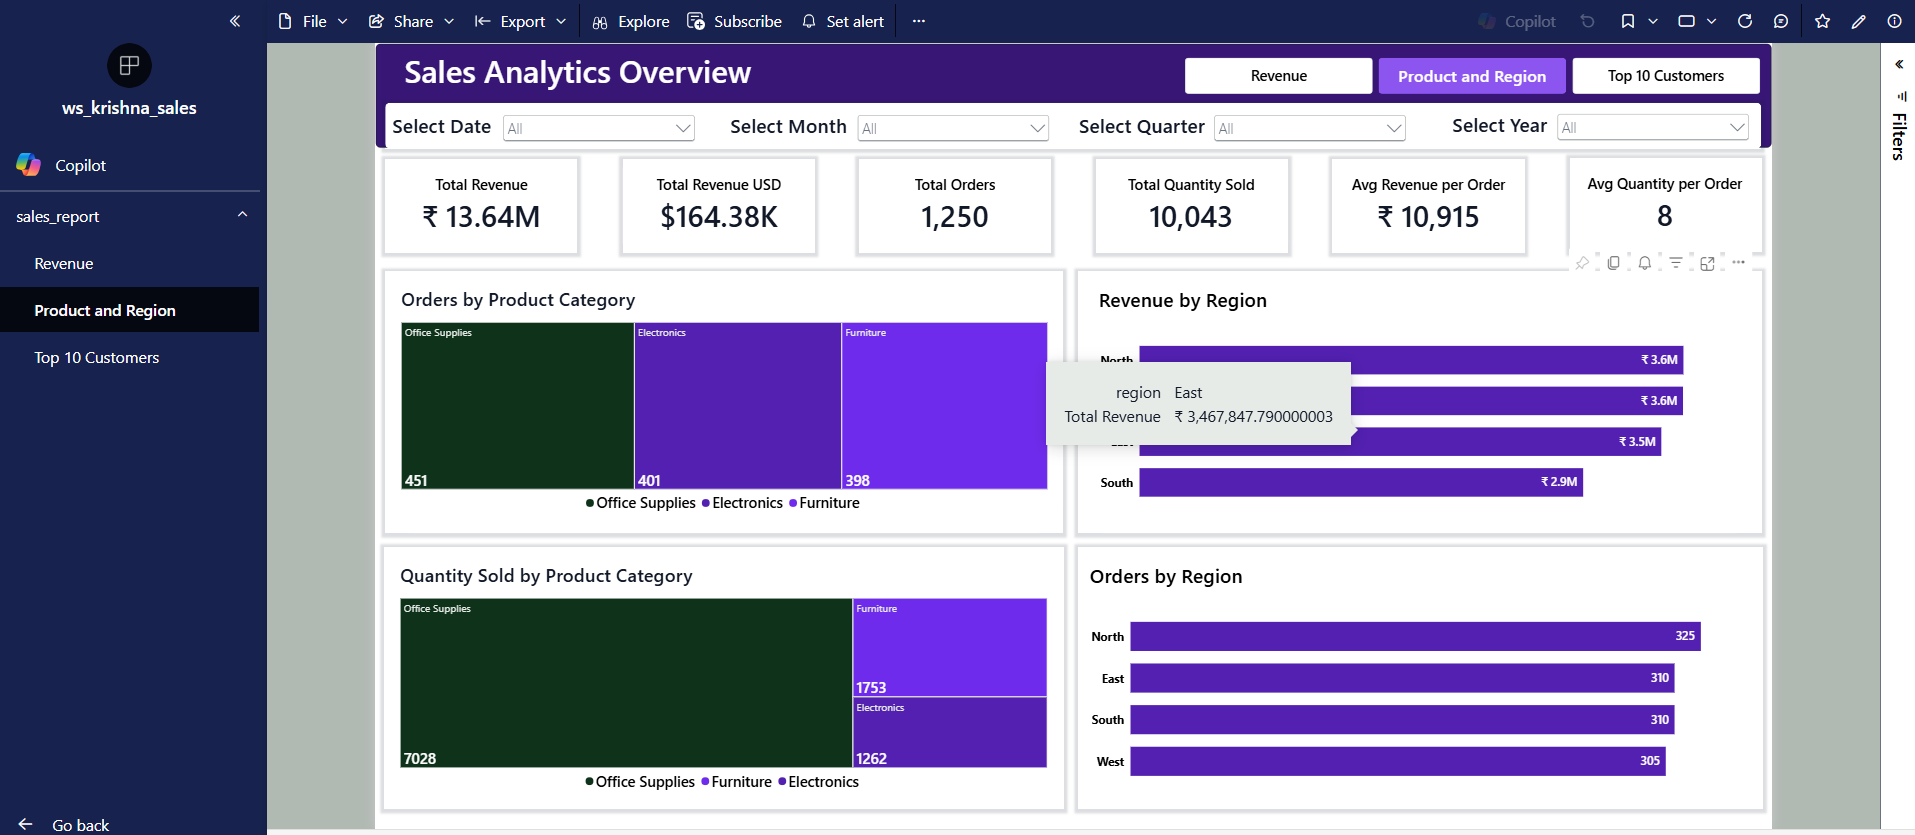

Layout of this report page (visuals, bound fields, positions):
{"tool":"powerbi","page":{"name":"Product and Region","canvas":[1920,1080],"ordinal":1},"visuals":[{"type":"shape","box":[0,0,1920.1,144.8],"z":0},{"type":"textbox","box":[1457.3,92.6,175.5,43.4],"z":0,"group":"g3"},{"type":"textbox","box":[480.5,94.1,175.5,43.4],"z":0,"group":"g2"},{"type":"textbox","box":[966.4,94.1,175.5,43.4],"z":0,"group":"g4"},{"type":"textbox","box":[14.5,95.9,155.6,38],"z":0,"group":"g1"},{"type":"textbox","box":[0,9,557.4,72.4],"z":1000},{"type":"slicer","fields":{"Values":["dim_date.year"]},"box":[1617.8,90.5,275.1,47.1],"z":1000,"group":"g3"},{"type":"slicer","fields":{"Values":["dim_date.full_date"]},"box":[170.1,92.3,275.1,47.1],"z":1000,"group":"g1"},{"type":"slicer","fields":{"Values":["dim_date.month_name"]},"box":[656,92.3,275.1,47.1],"z":1000,"group":"g2"},{"type":"slicer","fields":{"Values":["dim_date.quarter"]},"box":[1146.9,92.6,275.1,47.1],"z":1000,"group":"g4"},{"type":"shape","box":[14.5,159.3,264.2,128.5],"z":2000},{"type":"shape","box":[339.9,159.3,264.2,128.5],"z":3000},{"type":"shape","box":[665.2,159.3,264.2,128.5],"z":4000},{"type":"shape","box":[1316,159.3,264.2,128.5],"z":5000},{"type":"shape","box":[1641.4,157.4,264.2,128.5],"z":6000},{"type":"shape","box":[990.6,159.3,264.2,128.5],"z":7000},{"type":"shape","box":[14.5,81.4,1891.1,63.3],"z":8000},{"type":"group","id":"g1","title":"Group 1","box":[14.5,92.3,430.7,47.1],"z":9000},{"type":"group","id":"g2","title":"Group 2","box":[480.5,92.3,450.6,47.1],"z":10000},{"type":"group","id":"g3","title":"Group 4","box":[1457.3,90.5,435.6,47.1],"z":11000},{"type":"group","id":"g4","title":"Group 3","box":[966.4,92.6,455.6,47.1],"z":12000},{"type":"cardVisual","fields":{"Data":["fact_sales.Avg Quantity per Order"]},"box":[1648.6,161.1,249.7,121],"z":13000},{"type":"cardVisual","fields":{"Data":["fact_sales.Avg Revenue per Order"]},"box":[1322.9,162.9,249.7,121],"z":14000},{"type":"cardVisual","fields":{"Data":["fact_sales.Total Quantity Sold"]},"box":[997.1,162.9,249.7,121],"z":15000},{"type":"cardVisual","fields":{"Data":["fact_sales.Total Orders"]},"box":[673.2,162.9,249.7,121],"z":16000},{"type":"cardVisual","fields":{"Data":["fact_sales.Total Revenue USD"]},"box":[347.5,162.9,249.7,121],"z":17000},{"type":"cardVisual","fields":{"Data":["fact_sales.Total Revenue"]},"box":[21.7,162.9,249.7,121],"z":18000},{"type":"shape","box":[12.7,693.1,933.8,360.1],"z":19000},{"type":"shape","box":[14.5,313.1,932,360.1],"z":20000},{"type":"shape","box":[966.4,313.1,939.2,360.1],"z":21000},{"type":"shape","box":[966.4,693.1,941,360.1],"z":22000},{"type":"clusteredBarChart","title":"Revenue by Region","fields":{"Category":["dim_region.region"],"Y":["fact_sales.Total Revenue"]},"box":[979,320.3,915,343.8],"z":23000},{"type":"clusteredBarChart","title":"Orders by Region","fields":{"Category":["dim_region.region"],"Y":["fact_sales.Total Orders"]},"box":[966.4,698.5,932,349.3],"z":24000},{"type":"treemap","title":"Orders by Product Category","fields":{"Group":["dim_product.product_category"],"Values":["fact_sales.Total Orders"]},"box":[19.9,320.3,920,345],"z":25000},{"type":"treemap","title":"Quantity Sold by Product Category","fields":{"Group":["dim_product.product_category"],"Values":["fact_sales.Total Quantity Sold"]},"box":[18.1,698.5,921.1,349.3],"z":26000},{"type":"pageNavigator","box":[1112.9,19.9,792.6,50.7],"z":26001}]}

Visuals, with their boxes on the page's 1920x1080 design canvas (x1, y1, x2, y2). These are canvas units, not pixel positions in the 1915x835 screenshot, which may show the page scaled, cropped or inside an application window:
shape: 0/0/1920/145
textbox: 1457/93/1633/136
textbox: 480/94/656/138
textbox: 966/94/1142/138
textbox: 14/96/170/134
textbox: 0/9/557/81
slicer - dim_date.year: 1618/90/1893/138
slicer - dim_date.full_date: 170/92/445/139
slicer - dim_date.month_name: 656/92/931/139
slicer - dim_date.quarter: 1147/93/1422/140
shape: 14/159/279/288
shape: 340/159/604/288
shape: 665/159/929/288
shape: 1316/159/1580/288
shape: 1641/157/1906/286
shape: 991/159/1255/288
shape: 14/81/1906/145
"Group 1" group: 14/92/445/139
"Group 2" group: 480/92/931/139
"Group 4" group: 1457/90/1893/138
"Group 3" group: 966/93/1422/140
cardVisual - fact_sales.Avg Quantity per Order: 1649/161/1898/282
cardVisual - fact_sales.Avg Revenue per Order: 1323/163/1573/284
cardVisual - fact_sales.Total Quantity Sold: 997/163/1247/284
cardVisual - fact_sales.Total Orders: 673/163/923/284
cardVisual - fact_sales.Total Revenue USD: 348/163/597/284
cardVisual - fact_sales.Total Revenue: 22/163/271/284
shape: 13/693/946/1053
shape: 14/313/946/673
shape: 966/313/1906/673
shape: 966/693/1907/1053
"Revenue by Region" clusteredBarChart: 979/320/1894/664
"Orders by Region" clusteredBarChart: 966/698/1898/1048
"Orders by Product Category" treemap: 20/320/940/665
"Quantity Sold by Product Category" treemap: 18/698/939/1048
pageNavigator: 1113/20/1906/71
